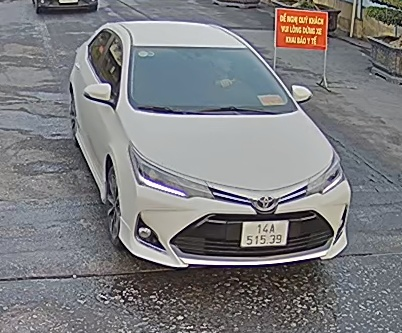vehicle plate: (241, 217, 286, 247)
